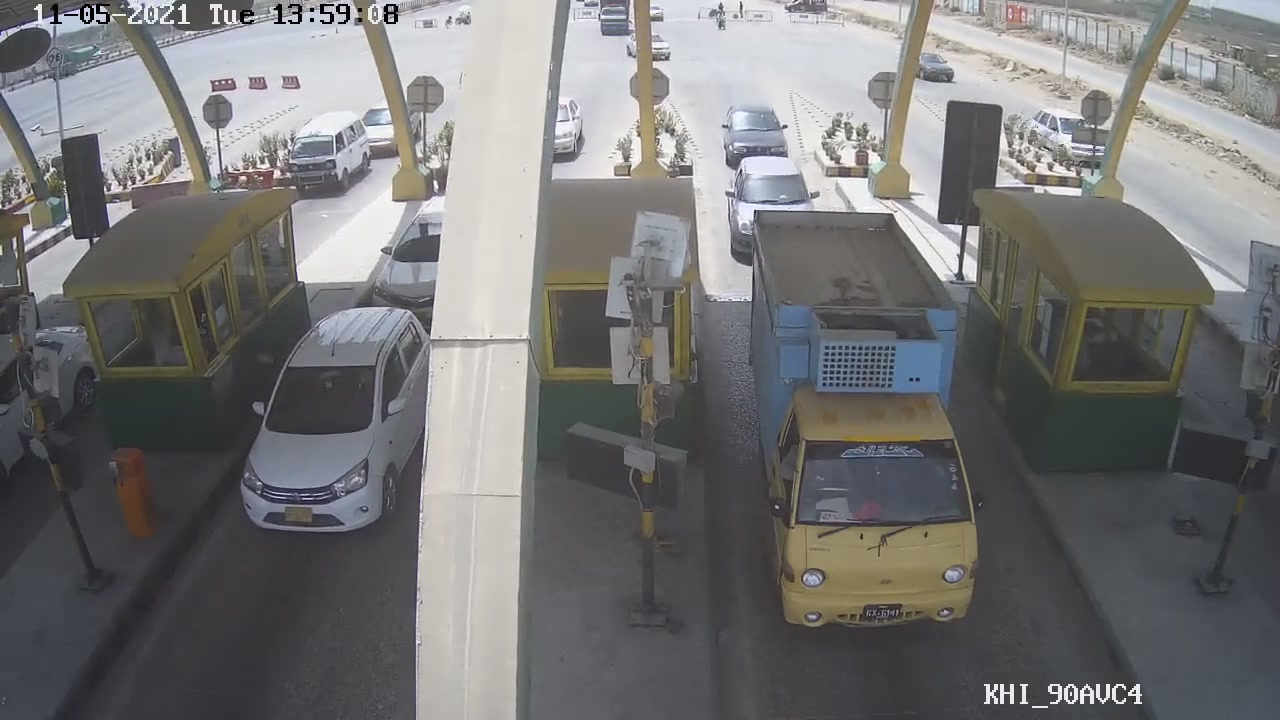F2: (737, 192, 990, 634)
